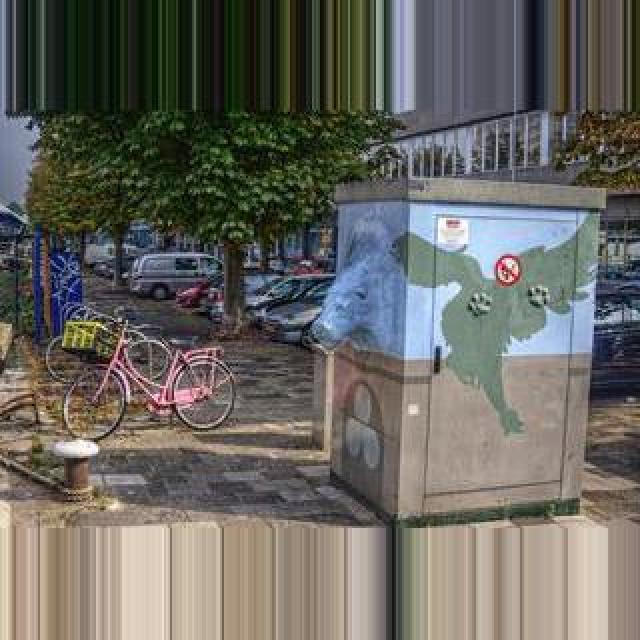Bus-Bike: (240, 272, 332, 344)
Person: (61, 310, 241, 440), (47, 309, 161, 385)
Truck-Bike: (130, 252, 224, 300)
